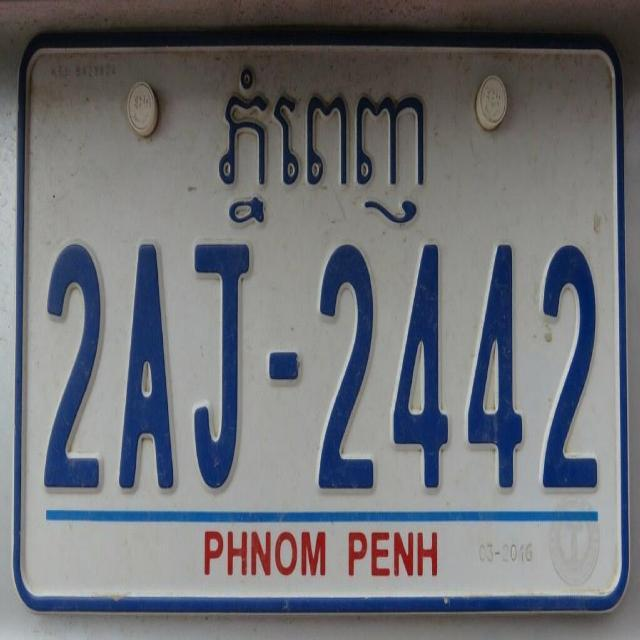Phnom_Penh: (218, 66, 425, 230)
